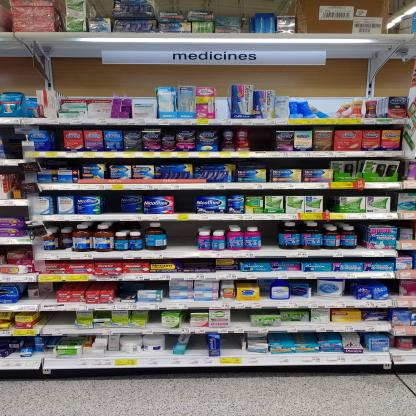Void: (169, 226, 196, 251), (40, 314, 72, 328), (254, 130, 274, 150), (232, 311, 252, 325), (224, 335, 238, 353), (261, 226, 272, 246), (194, 334, 205, 352), (27, 296, 54, 302)
